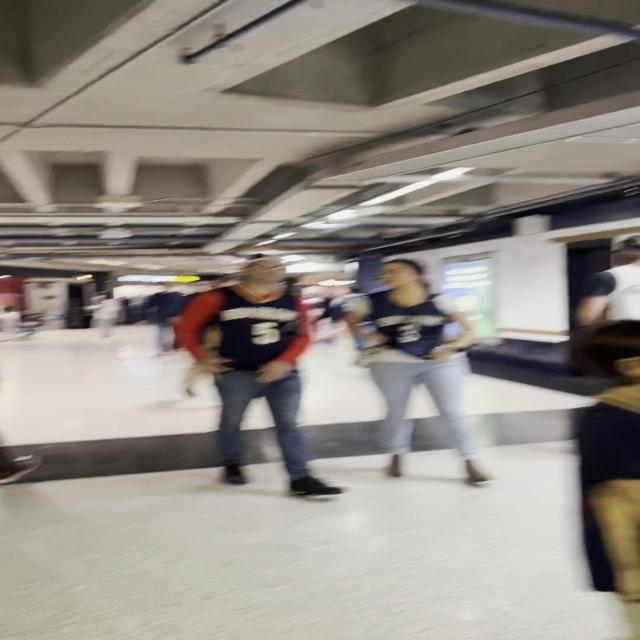NO-Mask: (248, 258, 286, 284), (384, 262, 418, 286), (160, 280, 182, 292)
